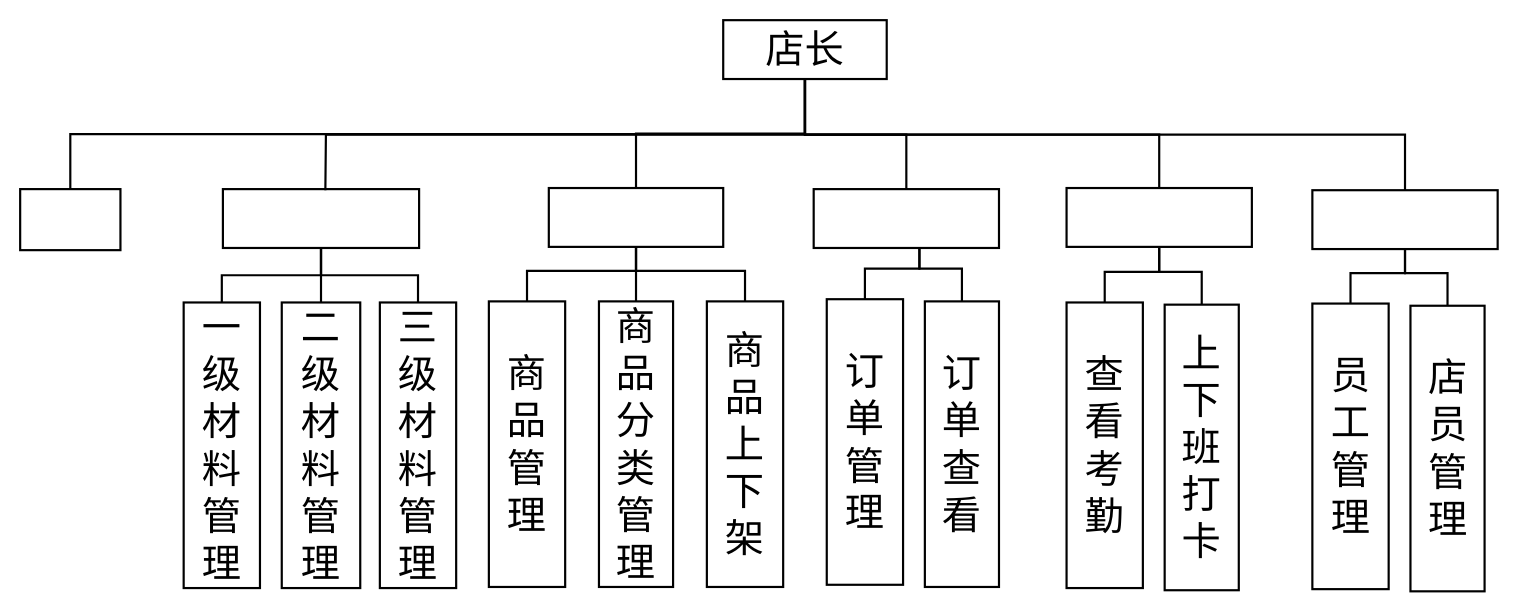
The diagram is 1517 pixels wide and 610 high, and some of its shapes have lost their labels. The shapes that lost their labels are listed below. From the top down, each one's centre as x and y in pixels, then its label:
[70,219]: 登录
[320,218]: 材料模块
[635,216]: 商品模块
[906,218]: 订单模块
[1158,216]: 考勤模块
[1404,219]: 用户模块
